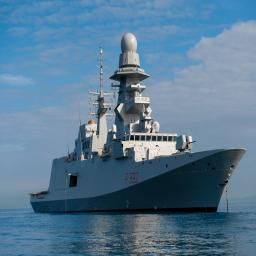Fragata: (1, 27, 172, 218)
